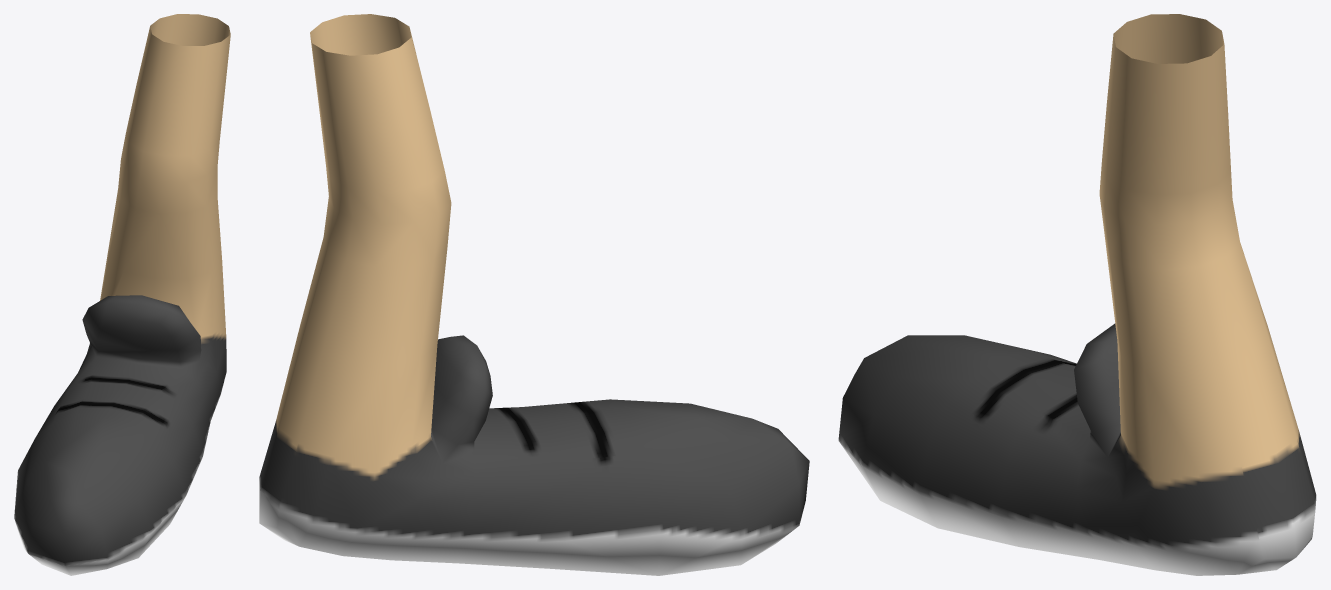
Rendered from Dipper PI.obj.
3 renders of one model, left to right at view 1: azimuth 30°, elevation 25°; view 2: azimuth 150°, elevation 25°; view 3: azimuth 270°, elevation 25°, orthographic. The views are drawn at different scales.
Visible parts, largest first — view 1: Pie_Izq; view 2: Pie_Izq; view 3: Pie_Izq.
Part boxes in pixels (box(x1,y1,x2,y2)): Pie_Izq: box(14, 14, 230, 575); Pie_Izq: box(259, 14, 809, 575); Pie_Izq: box(838, 14, 1316, 575).
Size of the model in its own units: 0.5158 by 0.6851 by 0.5126.
